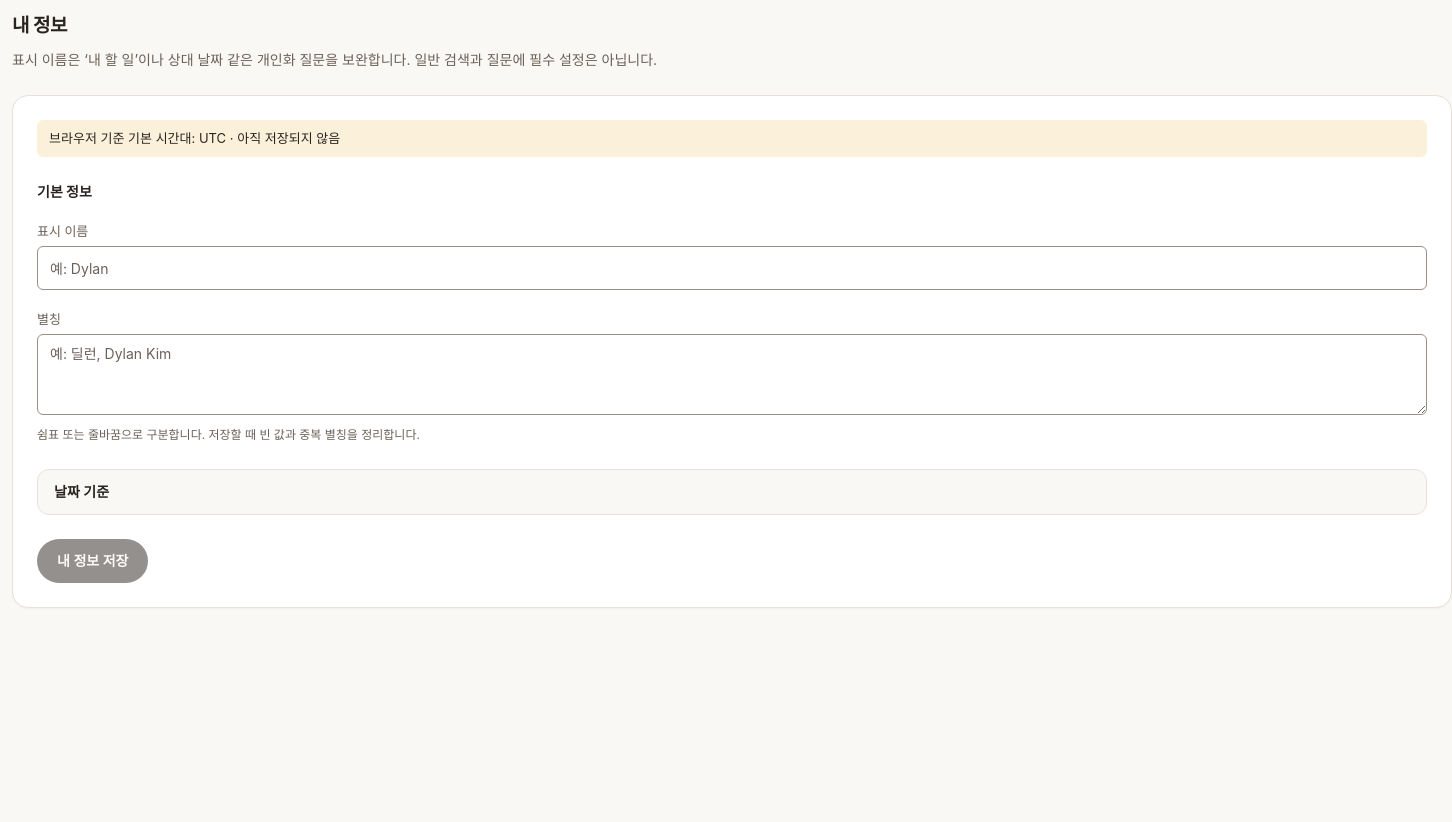
UserProfileForm › treats pending durability as committed and does not restore a dirty draft
The width and height of the screenshot is (1452, 822).
Type "Dylan" into the field labelled "표시 이름" at [732, 268], box 37,246 -> 1427,290
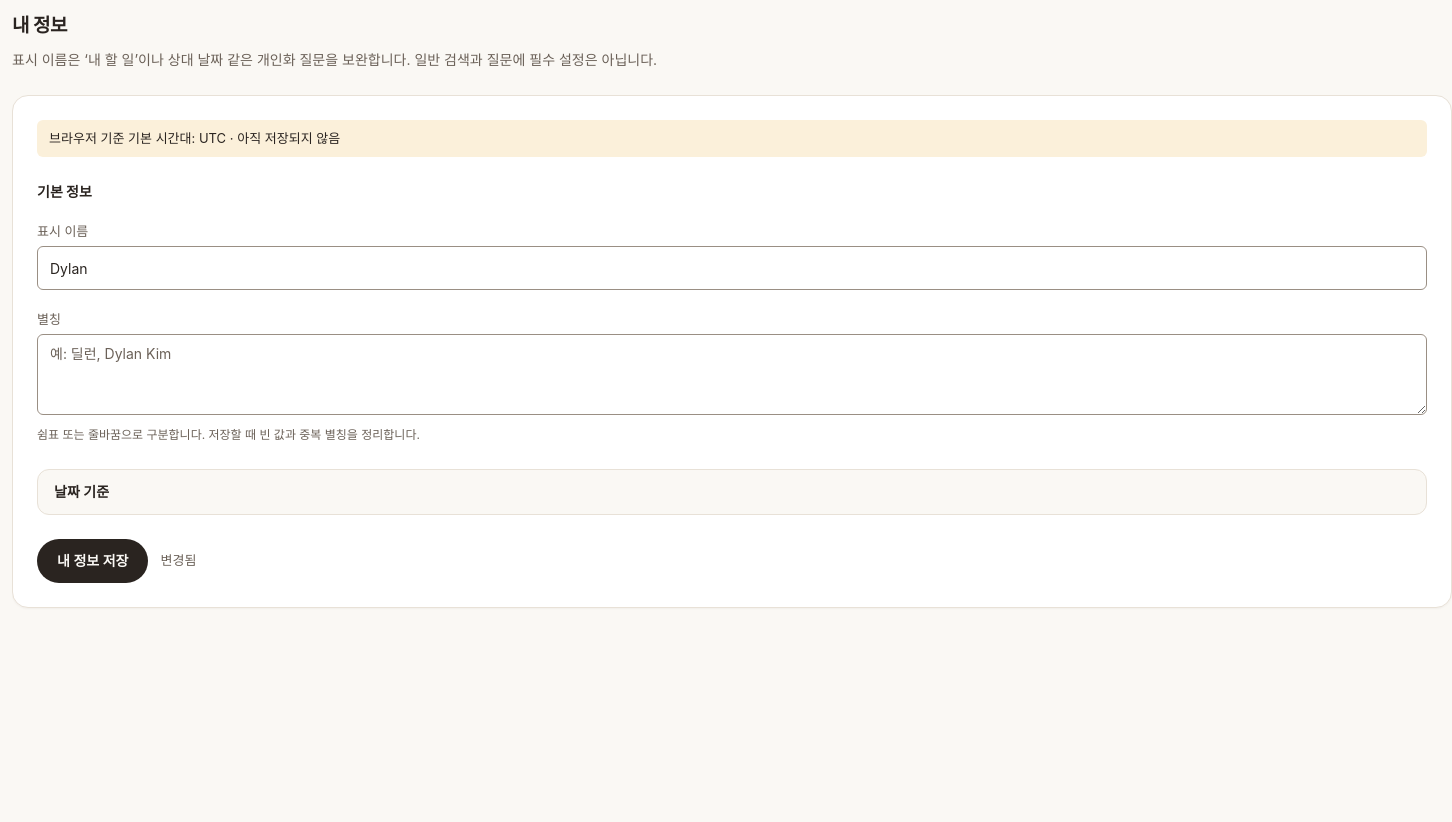
Click the button "내 정보 저장" at [93, 561], box 37,539 -> 148,583
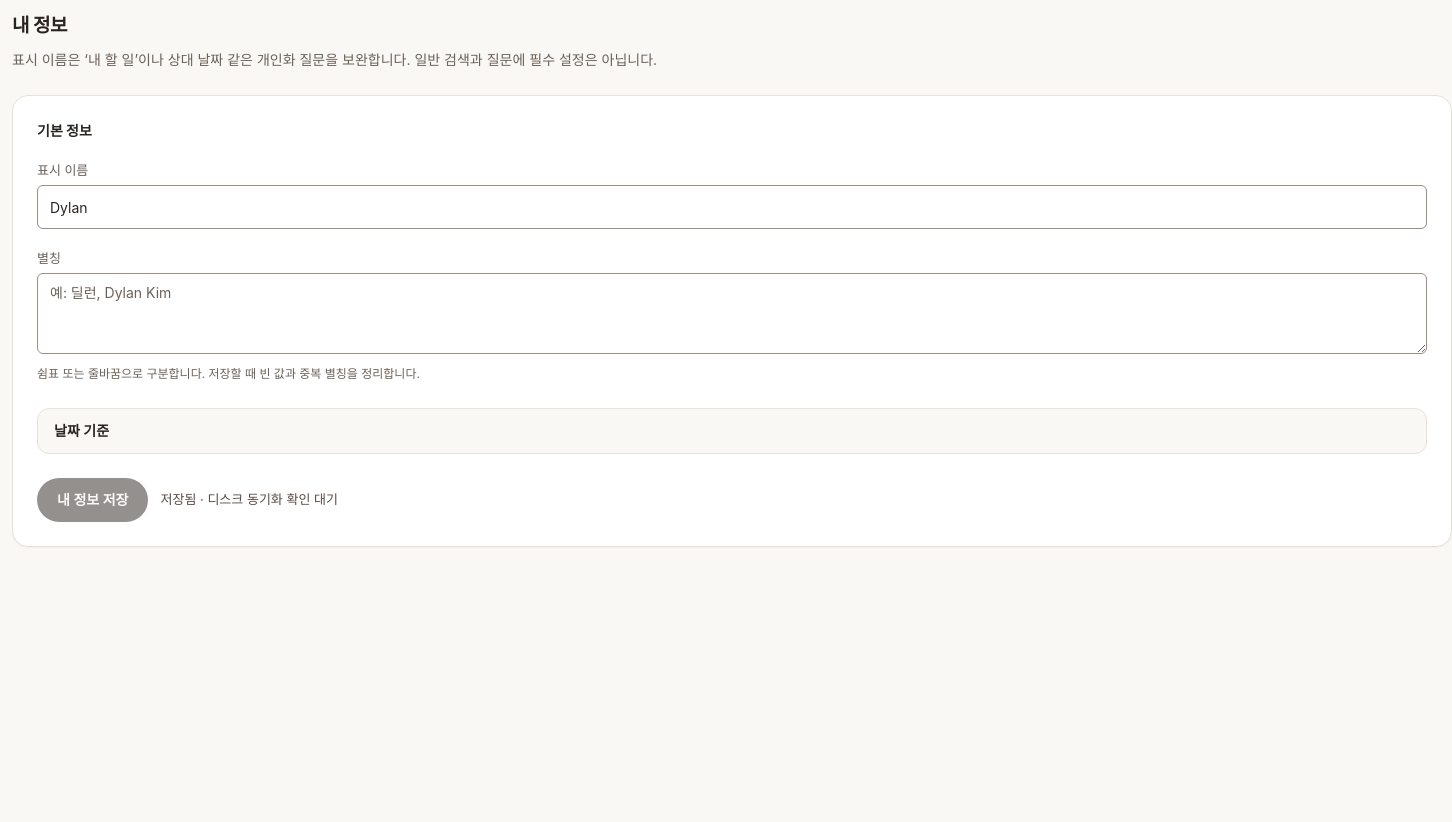
Result: the message reads "저장됨 · 디스크 동기화 확인 대기" at 160,491 -> 338,507
Result: the button "내 정보 저장" is disabled at 37,478 -> 148,522
